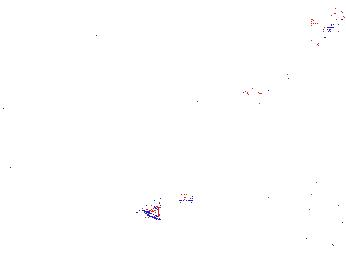glassfish: (240, 83, 332, 127), (134, 191, 197, 220)
redtail glassfish: (248, 1, 298, 25), (306, 12, 346, 40)
